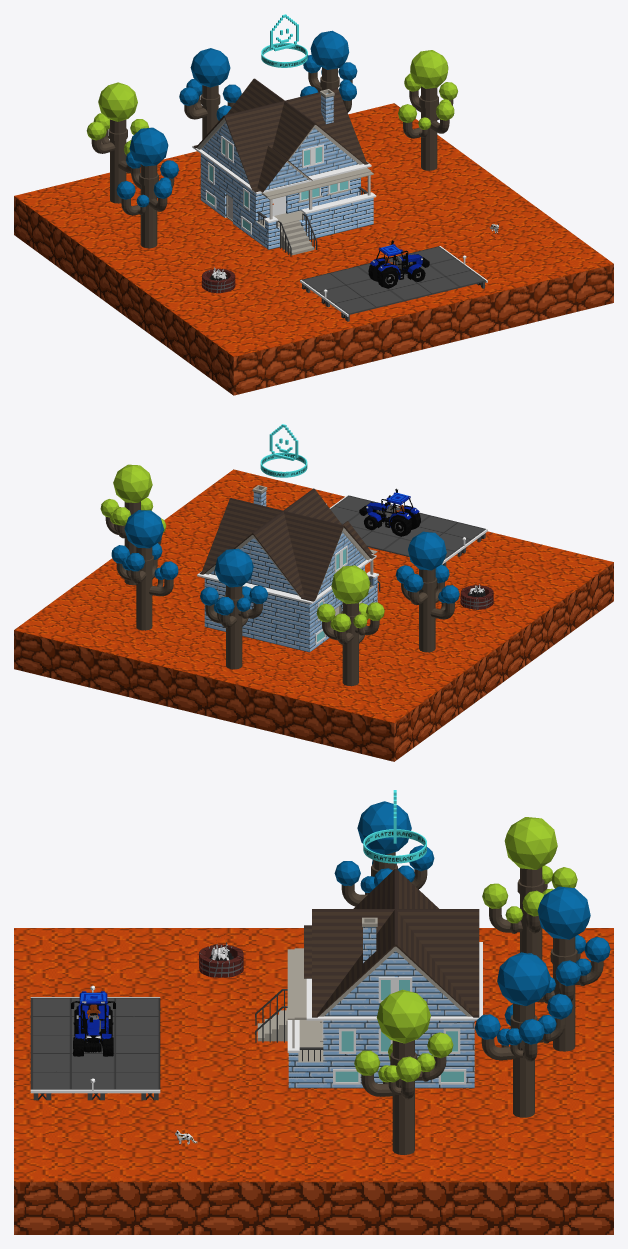
3 renders of one model, top to bottom at view 1: azimuth 30°, elevation 25°; view 2: azimuth 150°, elevation 25°; view 3: azimuth 270°, elevation 25°, orthographic. The views are drawn at different scales.
Visible parts, largest first — view 1: Cube.001, Cube.547, VEHICLES_TRACTOR, TYPE_PREMIUM, OBJRANDOM_CAMPFIRE; view 2: Cube.001, Cube.547, VEHICLES_TRACTOR, TYPE_PREMIUM, OBJRANDOM_CAMPFIRE; view 3: Cube.001, Cube.547, VEHICLES_TRACTOR, OBJRANDOM_CAMPFIRE, TYPE_PREMIUM.
Boxes of the visible parts, box(x1,y1,x2,y2) form: Cube.001: box(14, 30, 613, 395); Cube.547: box(192, 78, 376, 256); VEHICLES_TRACTOR: box(368, 240, 429, 288); TYPE_PREMIUM: box(261, 14, 307, 67); OBJRANDOM_CAMPFIRE: box(201, 267, 235, 293); Cube.001: box(14, 464, 613, 761); Cube.547: box(197, 485, 380, 652); VEHICLES_TRACTOR: box(359, 488, 420, 536); TYPE_PREMIUM: box(260, 424, 307, 477); OBJRANDOM_CAMPFIRE: box(460, 584, 493, 609); Cube.001: box(14, 801, 613, 1234); Cube.547: box(255, 869, 482, 1088); VEHICLES_TRACTOR: box(71, 991, 115, 1056); OBJRANDOM_CAMPFIRE: box(199, 942, 243, 977); TYPE_PREMIUM: box(363, 790, 426, 863).
Bounding box in the file's own units: 4000 × 2388 × 4000.
Materials: 37 (6 with a texture image).
